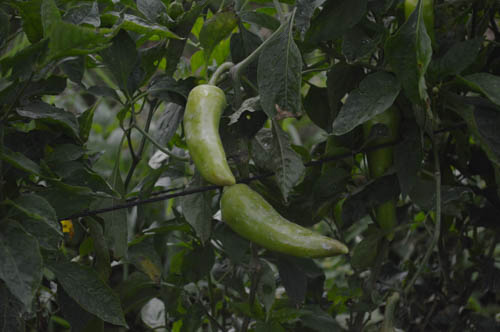ChiliPepper: (219, 177, 350, 262), (357, 95, 406, 241), (177, 78, 238, 186), (408, 1, 437, 52)
